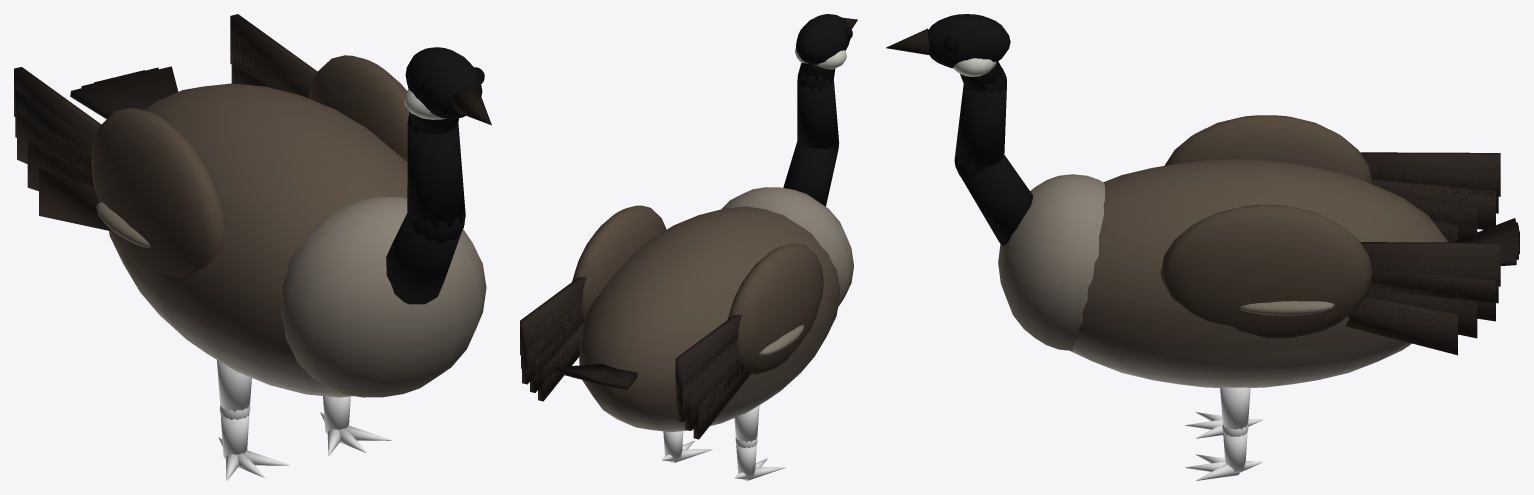
File: Goose.fbx
3 views of the same model, side by side, from view 1: azimuth 30°, elevation 25°; view 2: azimuth 150°, elevation 25°; view 3: azimuth 270°, elevation 25° (orthographic). The views are drawn at different scales.
Visible parts, largest first — view 1: Body.008, WingL.008, Head.008, WingR.008, LegL.008, LegR.008; view 2: Body.008, WingL.008, WingR.008, Head.008, LegL.008, LegR.008; view 3: Body.008, WingR.008, WingL.008, Head.008, LegR.008.
Part boxes in pixels (x1,y1,x2,y2): Body.008: (70,66,486,397); WingL.008: (14,67,226,277); Head.008: (386,47,491,304); WingR.008: (230,14,409,161); LegL.008: (217,360,289,480); LegR.008: (320,396,391,455); Body.008: (555,187,853,432); WingL.008: (675,243,823,439); WingR.008: (520,205,666,401); Head.008: (783,14,857,206); LegL.008: (734,405,785,480); LegR.008: (662,431,712,462); Body.008: (998,159,1519,387); WingR.008: (1160,205,1500,355); WingL.008: (1164,115,1500,242); Head.008: (886,14,1033,245); LegR.008: (1185,387,1262,480).
Bounding box in the file's own units: 0.702 × 1.21 × 1.58.
